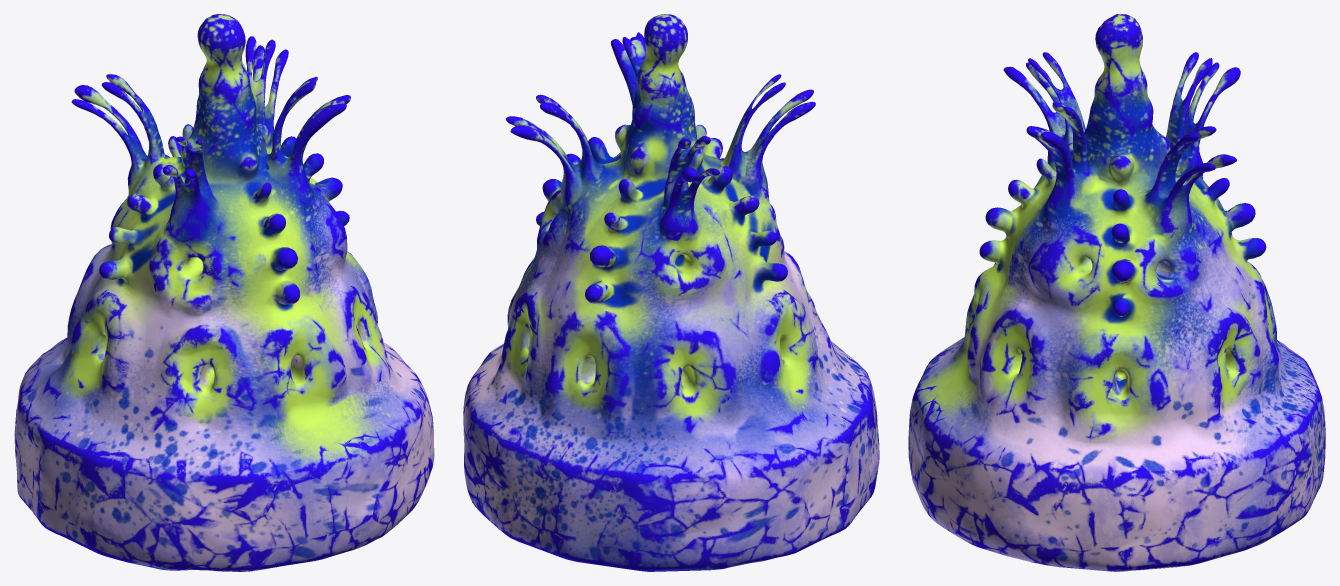
Rendered from shr-house.glb.
3 views of the same model, side by side, from view 1: azimuth 30°, elevation 25°; view 2: azimuth 150°, elevation 25°; view 3: azimuth 270°, elevation 25° (orthographic).
Parts seen in each view (by area): view 1: geometry_0; view 2: geometry_0; view 3: geometry_0.
Part boxes in pixels (<box>): geometry_0: <box>14,14,434,571</box>; geometry_0: <box>463,14,879,571</box>; geometry_0: <box>908,14,1325,571</box>.
Bounding box in the file's own units: 0.7316 × 1 × 0.7301.
Materials: 1 (1 with a texture image).
